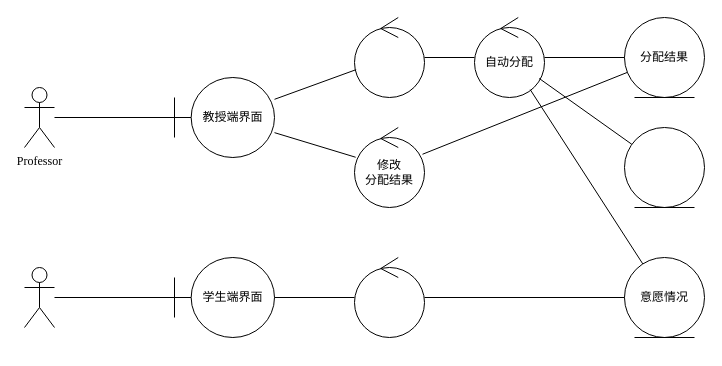
The diagram is 722 pixels wide and 366 high, and some of its shapes have lost their labels. Each missing label, with the centre of its shape:
"Student" goes at point 39,297.
"停止填报" goes at point 389,57.
"分组情况" goes at point 664,167.
"填写意愿" goes at point 389,297.
